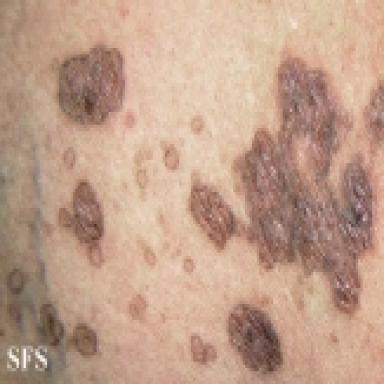Porokeratosis: (188, 57, 384, 311), (59, 45, 125, 123), (226, 305, 282, 375), (59, 181, 103, 267), (41, 304, 64, 344), (191, 334, 217, 363), (76, 324, 97, 355), (138, 240, 156, 266), (129, 294, 147, 319), (8, 269, 24, 293), (165, 145, 179, 169), (64, 148, 76, 169), (137, 169, 148, 188), (191, 116, 203, 133), (125, 111, 135, 127), (184, 258, 194, 273)
